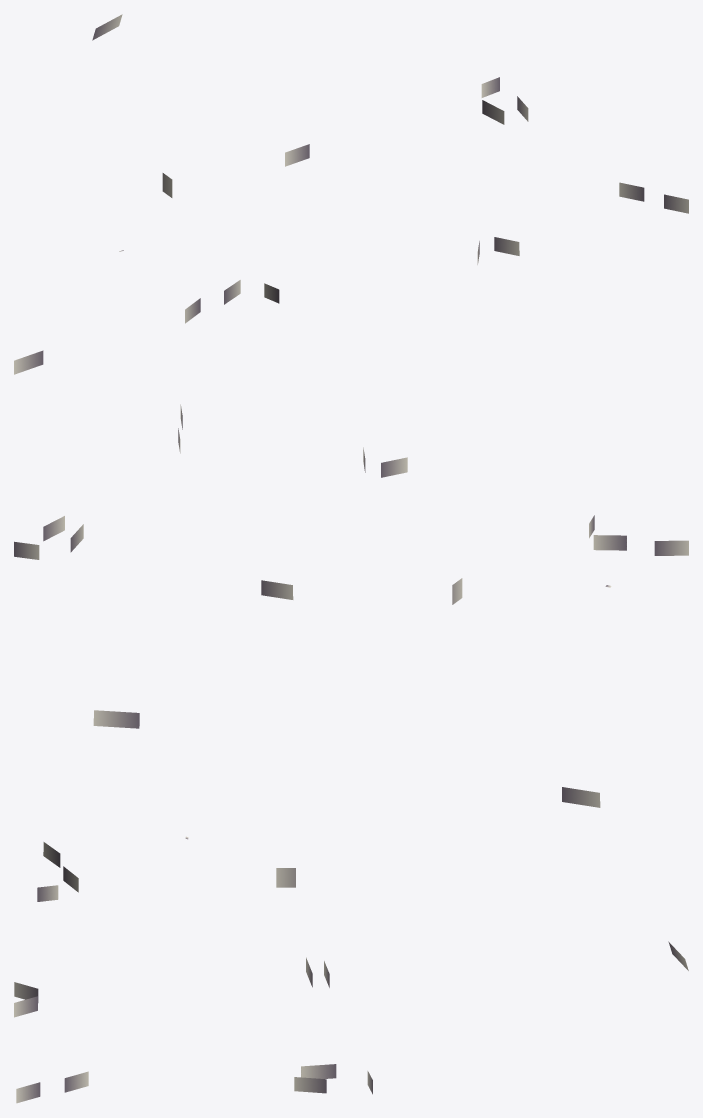
The model's file is screens.glb.
3 renders of one model, top to bottom at view 1: azimuth 30°, elevation 25°; view 2: azimuth 150°, elevation 25°; view 3: azimuth 270°, elevation 25°, orthographic. The views are drawn at different scales.
Visible parts, largest first — view 1: Object_7; view 2: Object_7; view 3: Object_7.
Part boxes in pixels (<box>): Object_7: <box>14,14,688,374</box>; Object_7: <box>14,404,688,807</box>; Object_7: <box>14,836,688,1103</box>.
Bounding box in the file's own units: 12.38 × 3.77 × 13.11.
Materials: 1 (1 with a texture image).
